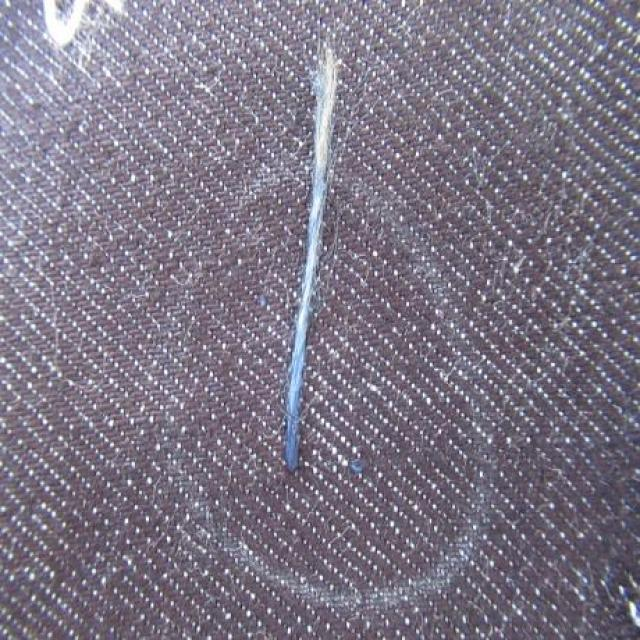stains: (190, 30, 405, 508)
